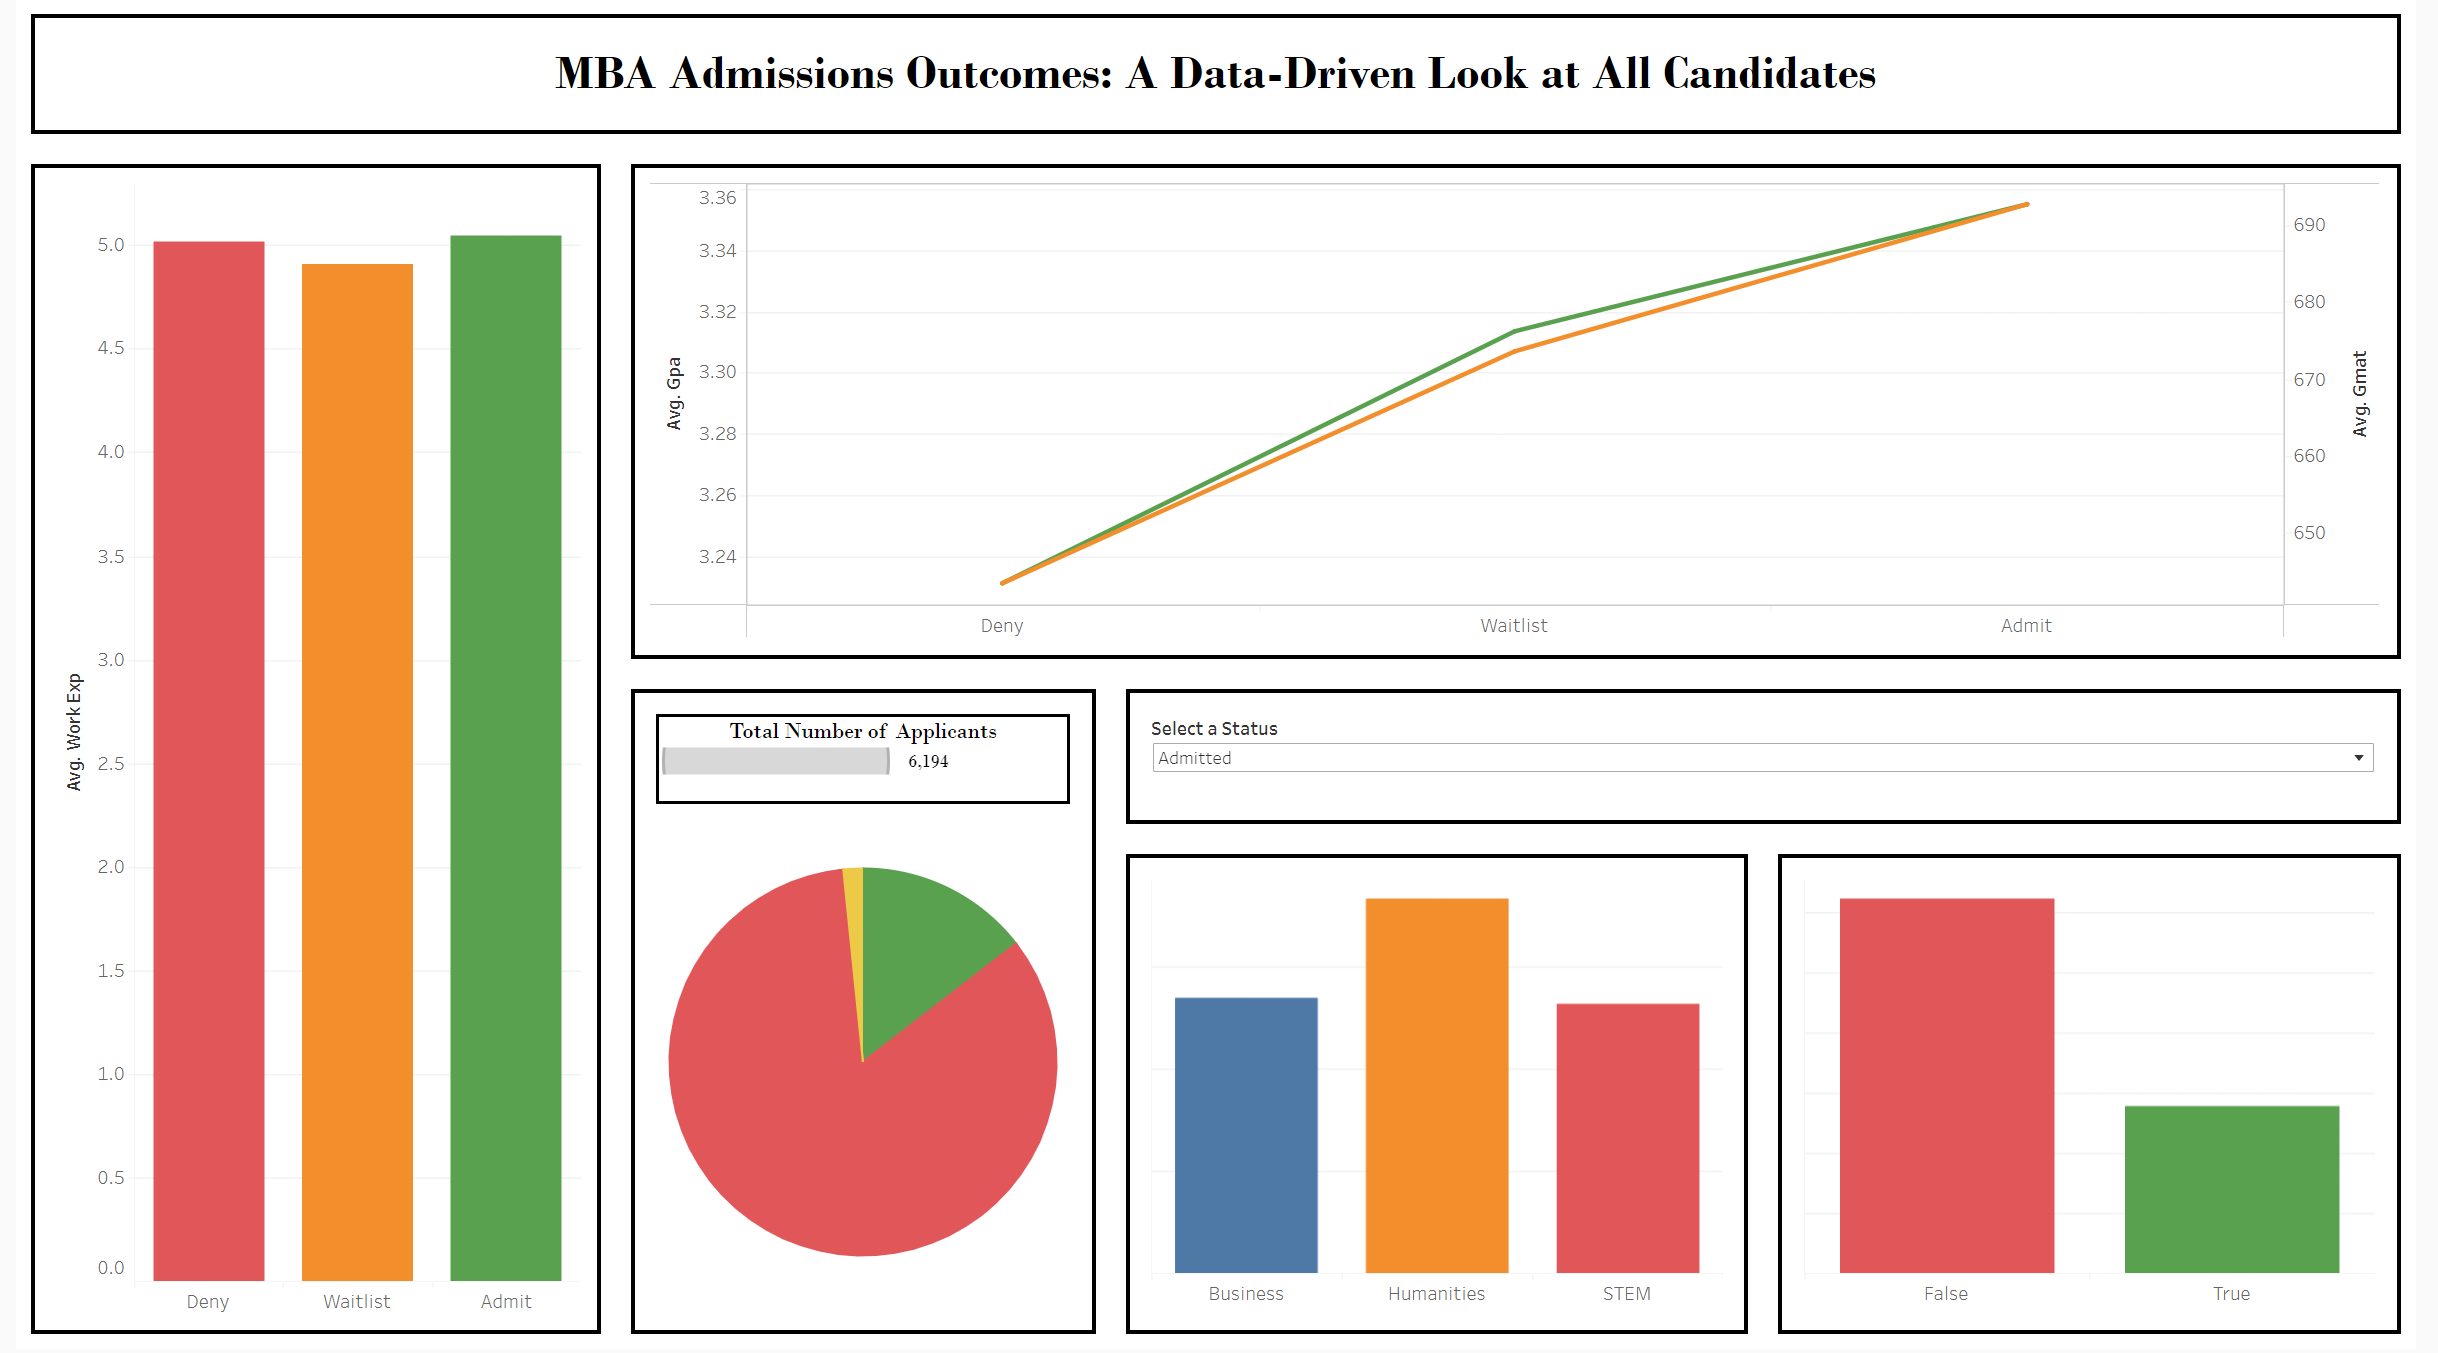

This screenshot's page, from the dashboard's own definition file:
{"tool":"tableau","page":{"name":"Dashboard 1","canvas":[1600,900],"ordinal":0},"visuals":[{"type":"text","box":[0,0,1600,100]},{"type":"worksheet","title":"Sheet 2","mark":"Automatic","rows":["work_exp"],"cols":["admission"],"box":[0,100,400,800]},{"type":"worksheet","title":"Sheet 1","mark":"Line","rows":["gpa","gmat"],"cols":["admission"],"box":[400,100,1200,350]},{"type":"legend","title":"Sheet 6","param":"[federated.0rprtyo08b5ybn17l0wye0lxml8j].[sum:count (ADMISSION):qk]","box":[423,473,284,68]},{"type":"parameter","param":"[Parameters].[Parameter 1]","box":[753,473,824,64]},{"type":"worksheet","title":"Sheet 6","mark":"Pie","box":[423,541,284,336]},{"type":"worksheet","title":"Sheet 3","mark":"Automatic","rows":["count (MAJOR)"],"cols":["major (admitted)"],"box":[753,583,389,292]},{"type":"worksheet","title":"Sheet 4","mark":"Automatic","rows":["count (admitted)"],"cols":["international (admitted)"],"box":[1188,583,389,292]},{"type":"worksheet","title":"Sheet 7","mark":"Automatic","rows":["count 1"],"cols":["major (waitlist)"],"box":[753,875,389,1]},{"type":"worksheet","title":"Sheet 10","mark":"Automatic","rows":["count (waitlist)"],"cols":["international (waitlist)"],"box":[1188,875,389,1]},{"type":"worksheet","title":"Sheet 8","mark":"Automatic","rows":["count 2"],"cols":["major (deny)"],"box":[753,876,389,1]},{"type":"worksheet","title":"Sheet 9","mark":"Automatic","rows":["count (deny)"],"cols":["international (deny)"],"box":[1188,876,389,1]}]}

Visuals, with their boxes in screenshot pixels (x1, y1, x2, y2), scaled from the page's 1600x900 canvas onto the 2438x1353 screenshot:
text: {"x1": 0, "y1": 0, "x2": 2437, "y2": 150}
"Sheet 2" worksheet: {"x1": 0, "y1": 150, "x2": 610, "y2": 1352}
"Sheet 1" worksheet (Line marks): {"x1": 610, "y1": 150, "x2": 2437, "y2": 676}
"Sheet 6" legend: {"x1": 645, "y1": 711, "x2": 1077, "y2": 813}
parameter: {"x1": 1147, "y1": 711, "x2": 2403, "y2": 807}
"Sheet 6" worksheet (Pie marks): {"x1": 645, "y1": 813, "x2": 1077, "y2": 1318}
"Sheet 3" worksheet: {"x1": 1147, "y1": 876, "x2": 1740, "y2": 1315}
"Sheet 4" worksheet: {"x1": 1810, "y1": 876, "x2": 2403, "y2": 1315}
"Sheet 7" worksheet: {"x1": 1147, "y1": 1315, "x2": 1740, "y2": 1317}
"Sheet 10" worksheet: {"x1": 1810, "y1": 1315, "x2": 2403, "y2": 1317}
"Sheet 8" worksheet: {"x1": 1147, "y1": 1317, "x2": 1740, "y2": 1318}
"Sheet 9" worksheet: {"x1": 1810, "y1": 1317, "x2": 2403, "y2": 1318}
